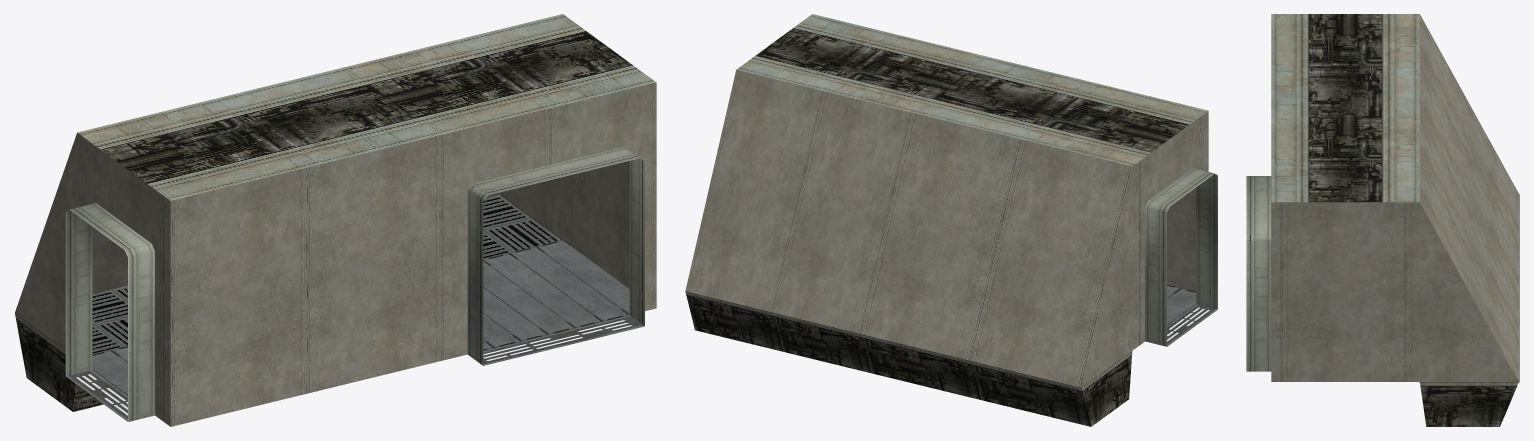
The model's file is thm_tato_lucky_despot_r32_lounge03_mesh_r32.fbx.
The picture shows the model from 3 angles, left to right: view 1: azimuth 30°, elevation 25°; view 2: azimuth 150°, elevation 25°; view 3: azimuth 270°, elevation 25°; orthographic projection. The views are drawn at different scales.
Parts seen in each view (by area): view 1: mesh_node; view 2: mesh_node; view 3: mesh_node.
Boxes of the visible parts, x1=… form: mesh_node: x1=14, y1=14, x2=656, y2=426; mesh_node: x1=685, y1=14, x2=1217, y2=426; mesh_node: x1=1246, y1=14, x2=1519, y2=426.
Size of the model in its own units: 9.5 by 5 by 5.51.
